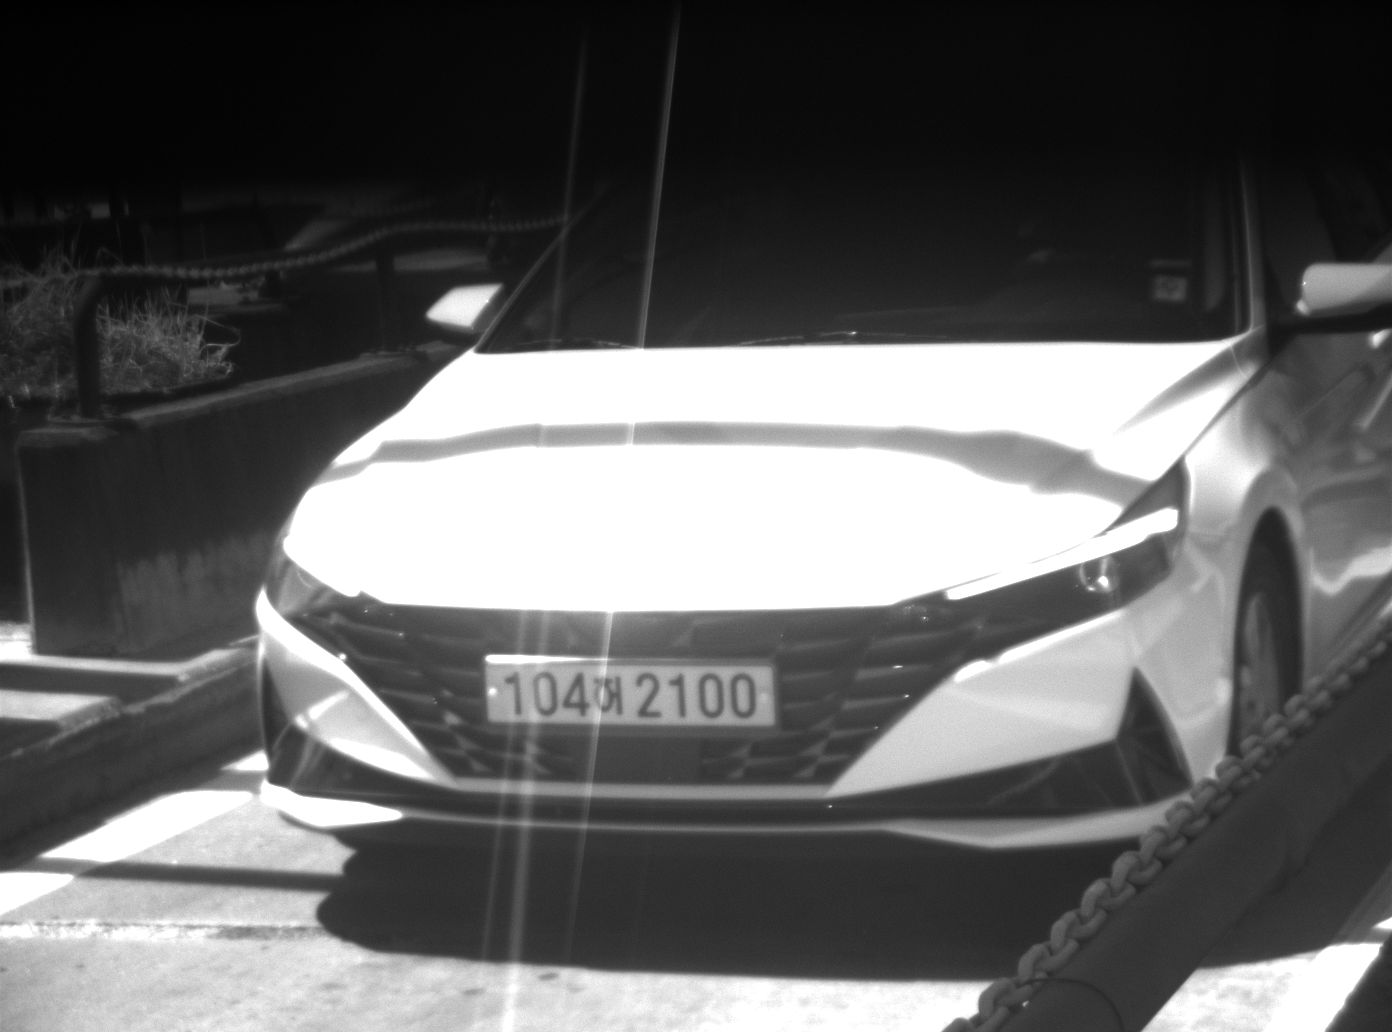car: (242, 177, 1392, 869)
plate: (483, 656, 774, 726)
